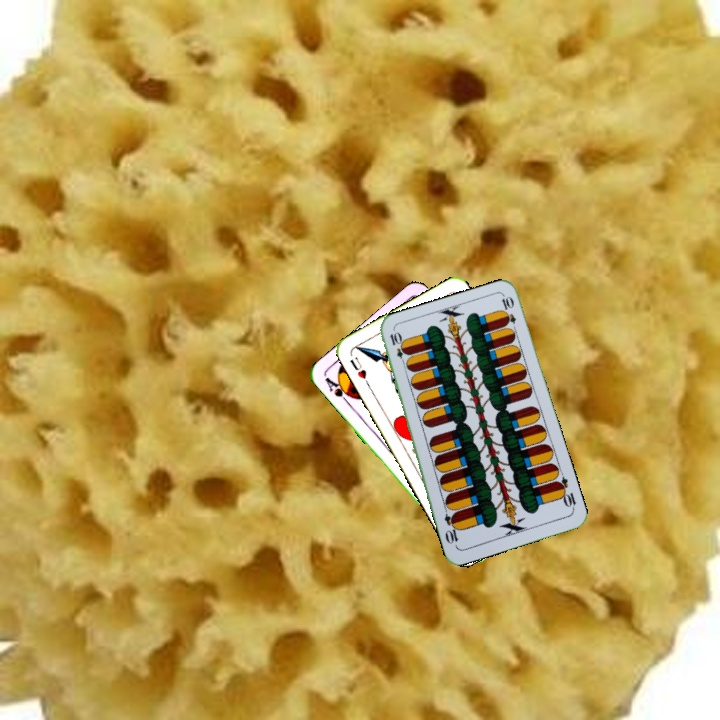E10: (552, 473, 579, 513), (386, 328, 409, 368)
HU: (346, 353, 372, 388)
SA: (321, 373, 356, 407)
